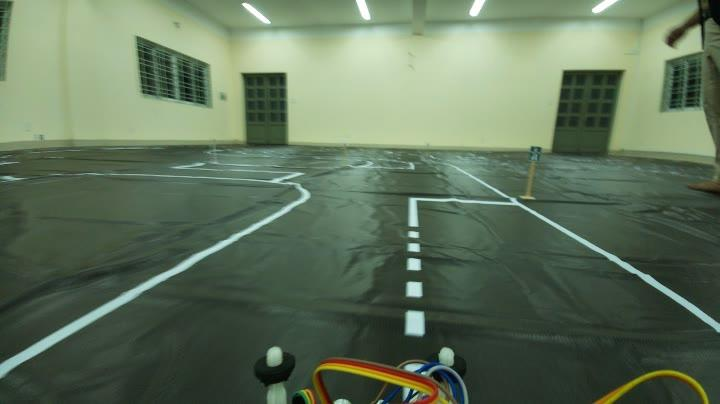highway_exit: (524, 144, 542, 164)
